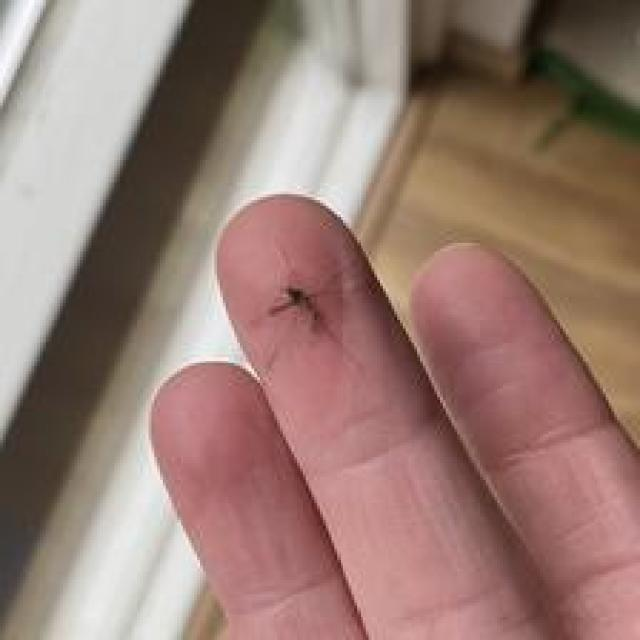Culex: (267, 284, 324, 324)
